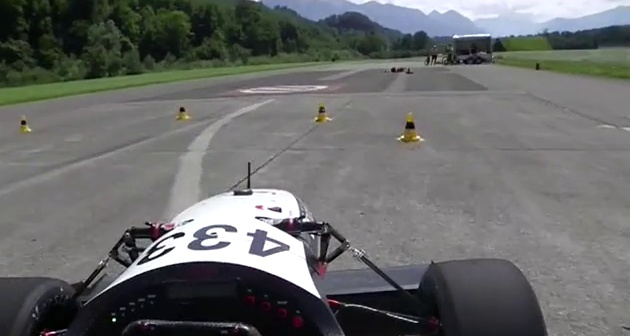Cone: (396, 111, 423, 143), (314, 99, 331, 123), (174, 100, 191, 121), (17, 112, 31, 134)
